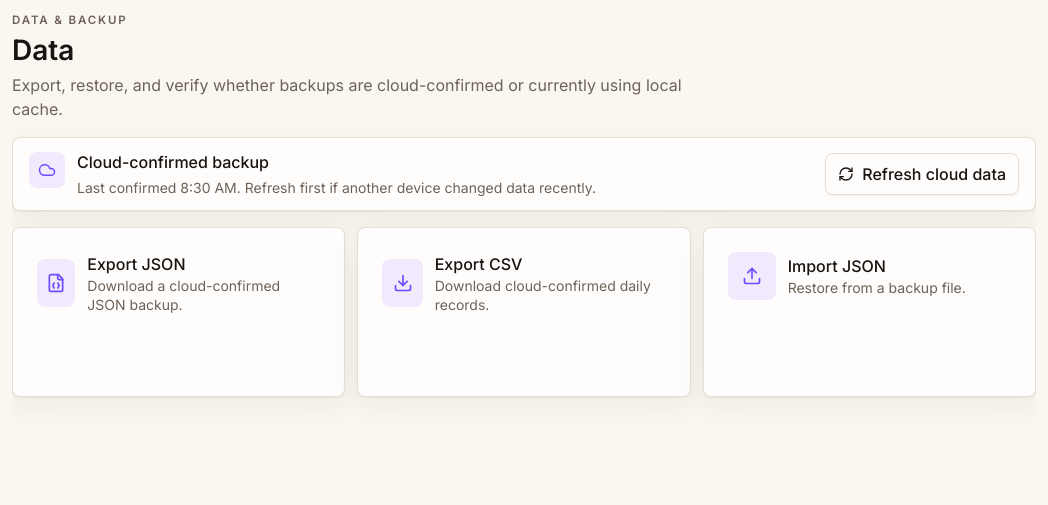
Test: DataScreen › refreshes from cloud before export on demand
This screenshot has width=1048, height=505.
Click the button "Refresh cloud data" at [922, 174], box [825,153,1019,195]
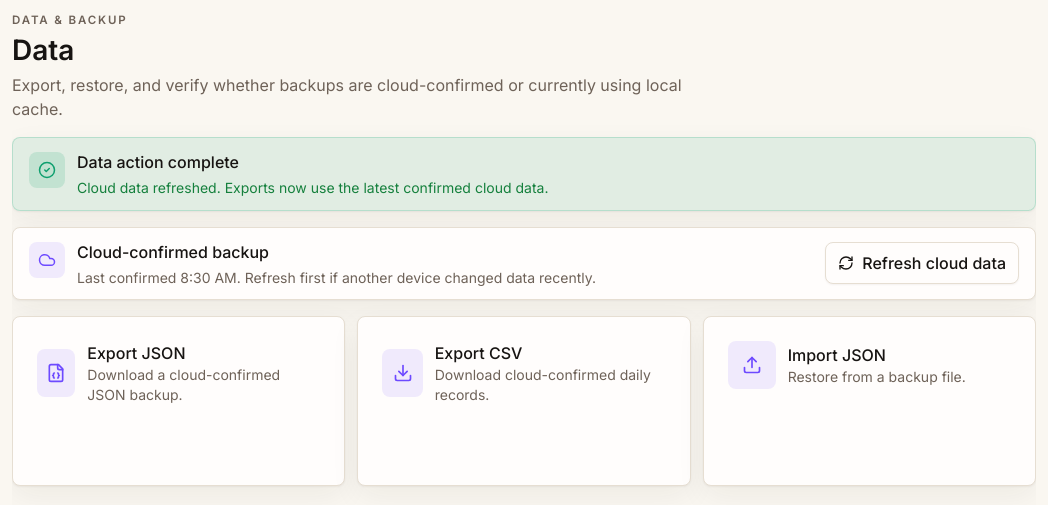
Result: the text "Cloud data refreshed. Exports now use the latest confirmed cloud data." is shown at [77,178,548,198]
